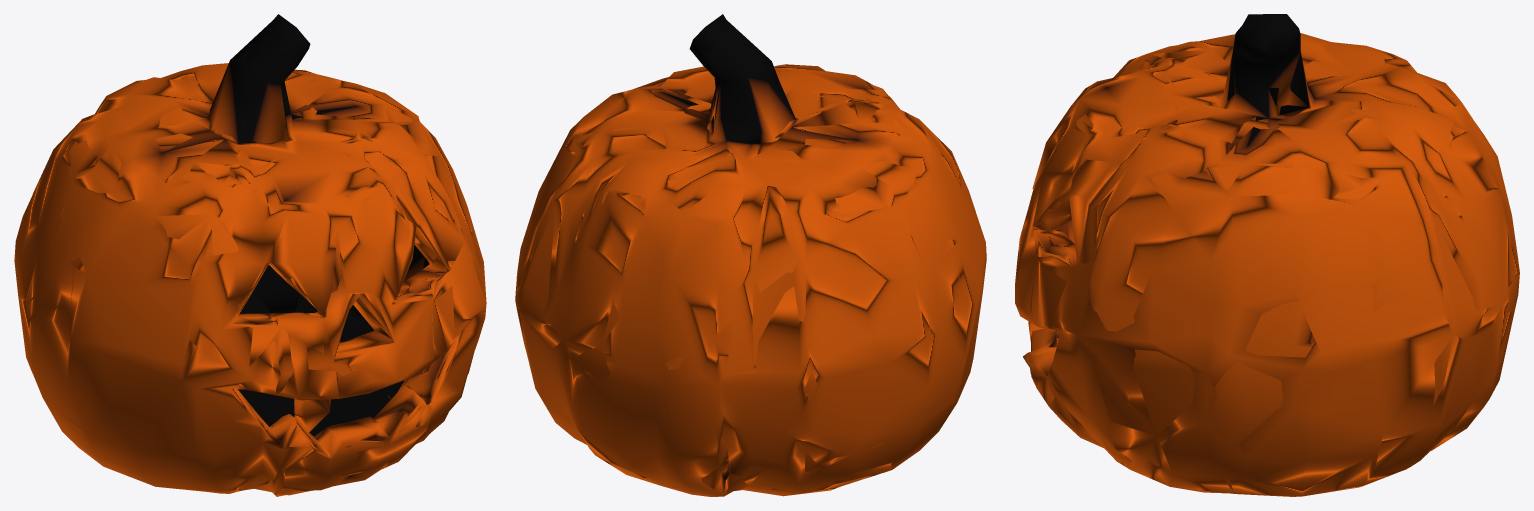
File: gen3d-jack-o-lantern-lod0.glb
3 renders of one model, left to right at view 1: azimuth 30°, elevation 25°; view 2: azimuth 150°, elevation 25°; view 3: azimuth 270°, elevation 25°, orthographic. The views are drawn at different scales.
Visible parts, largest first — view 1: part_0; view 2: part_0; view 3: part_0.
Part boxes in pixels (x1=…): part_0: x1=14, y1=14, x2=486, y2=496; part_0: x1=515, y1=14, x2=986, y2=496; part_0: x1=1015, y1=14, x2=1519, y2=496.
Size of the model in its own units: 1.04 by 0.9985 by 1.05.
